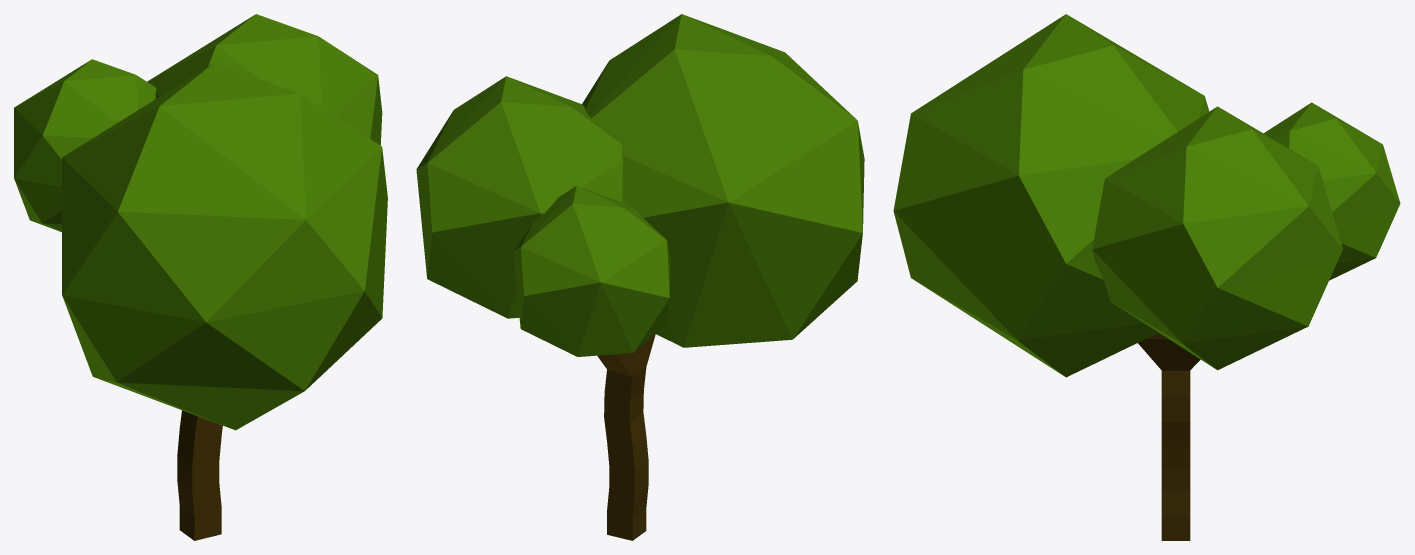
File: Tree2.fbx
3 views of the same model, side by side, from view 1: azimuth 30°, elevation 25°; view 2: azimuth 150°, elevation 25°; view 3: azimuth 270°, elevation 25° (orthographic). The views are drawn at different scales.
Visible parts, largest first — view 1: Icosphere.001, Plane; view 2: Icosphere.001, Plane; view 3: Icosphere.001, Plane.
Part boxes in pixels (<box>): Icosphere.001: <box>14,14,387,430</box>; Plane: <box>177,410,222,540</box>; Icosphere.001: <box>416,14,864,356</box>; Plane: <box>597,334,655,540</box>; Icosphere.001: <box>893,14,1400,377</box>; Plane: <box>1138,333,1200,540</box>.
Bounding box in the file's own units: 934 × 1114 × 1066.
